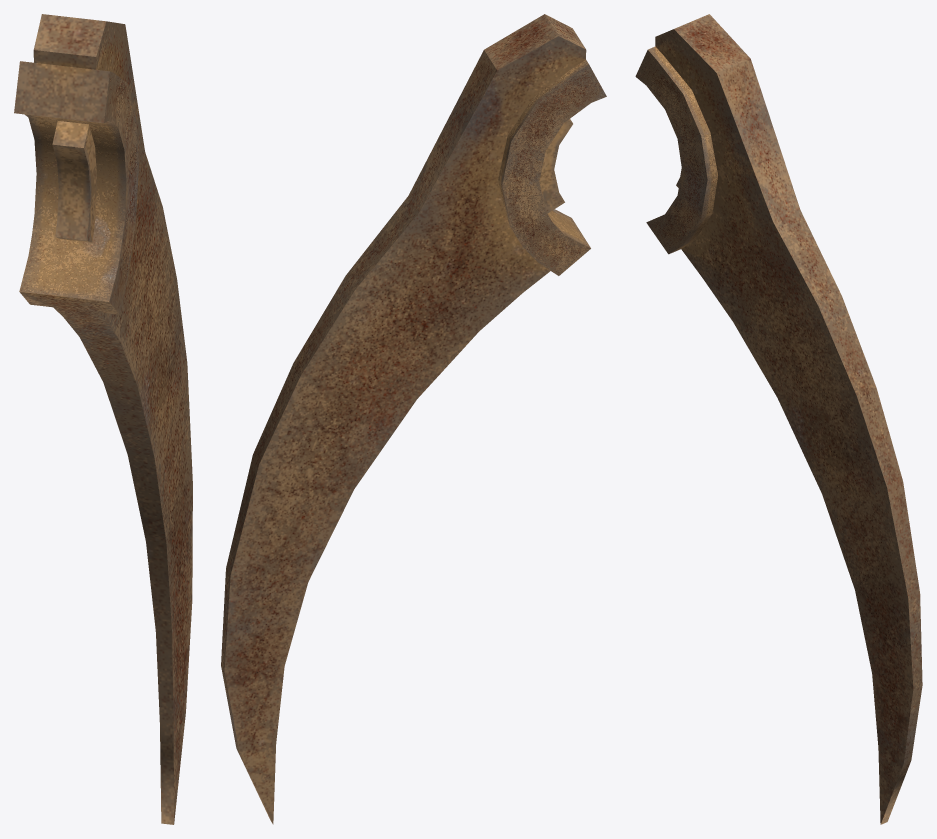
The model's file is centipede_leg_prob.fbx.
3 views of the same model, side by side, from view 1: azimuth 30°, elevation 25°; view 2: azimuth 150°, elevation 25°; view 3: azimuth 270°, elevation 25° (orthographic). The views are drawn at different scales.
Visible parts, largest first — view 1: Object010; view 2: Object010; view 3: Object010.
Boxes of the visible parts, x1,y1,x2,y2 form: Object010: (14,14,192,824); Object010: (221,14,606,824); Object010: (635,14,922,824).
Size of the model in its own units: 33.36 by 92.3 by 33.34.
